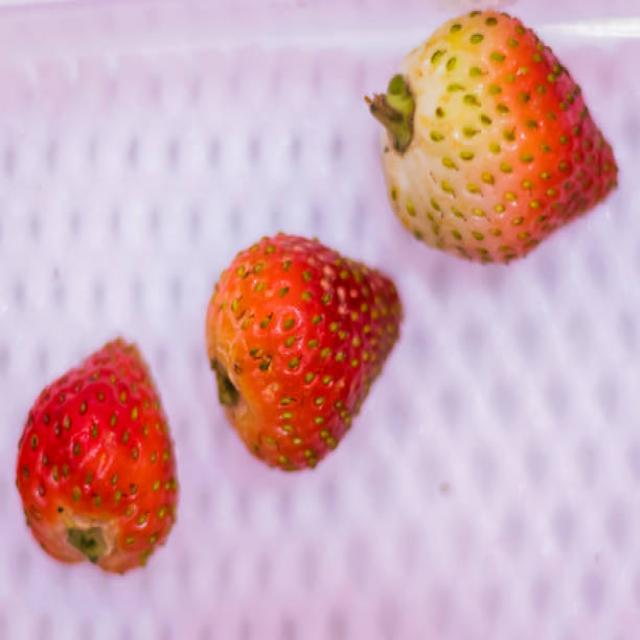Healthy Fruit: (378, 9, 619, 267), (204, 232, 404, 475), (16, 338, 179, 578)
